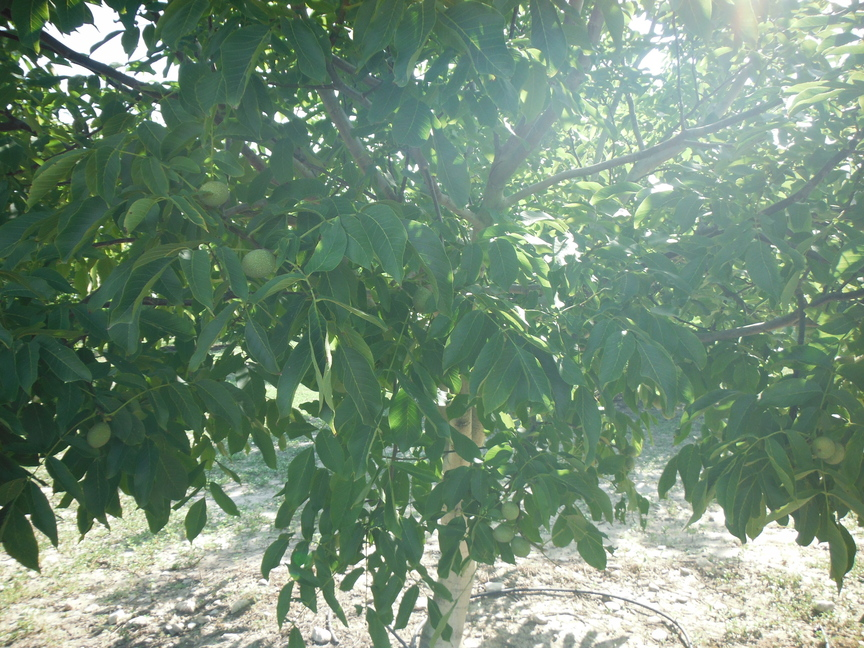walnut: (232, 239, 288, 289), (76, 412, 124, 454), (191, 176, 236, 214), (407, 282, 440, 317), (807, 428, 839, 464), (823, 438, 852, 473), (497, 494, 524, 524), (509, 532, 536, 562), (488, 522, 521, 545), (647, 386, 670, 413), (661, 401, 681, 423)
